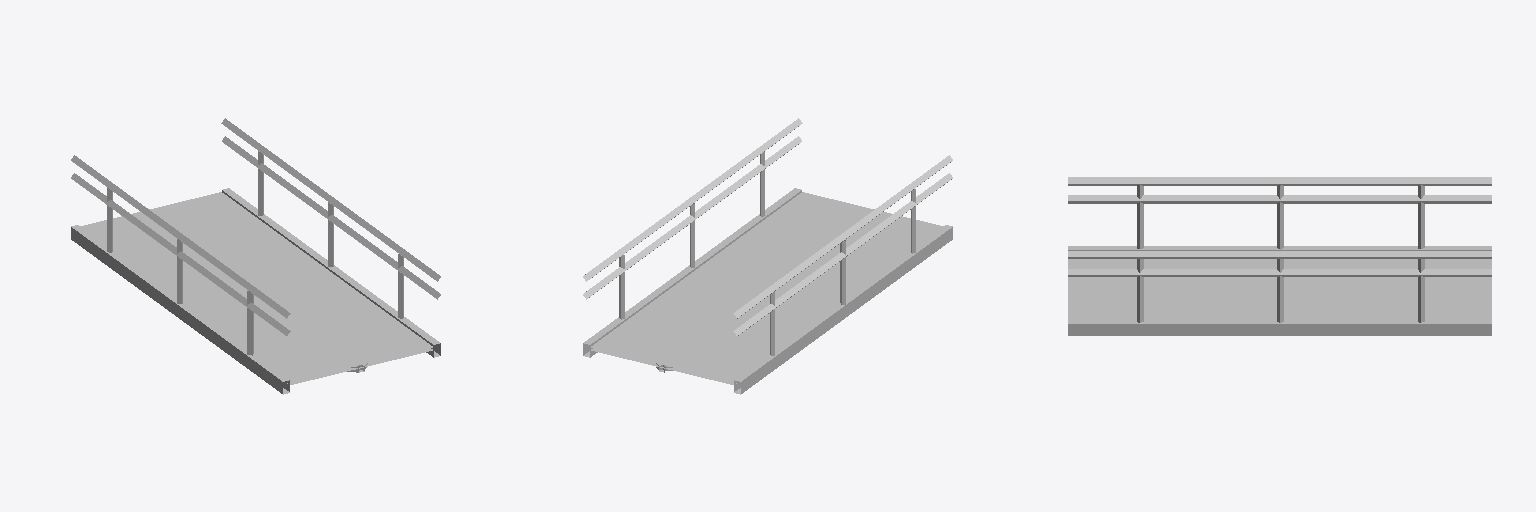
The model's file is Bridge_With_Railing.obj.
The picture shows the model from 3 angles: view 1: azimuth 30°, elevation 25°; view 2: azimuth 150°, elevation 25°; view 3: azimuth 270°, elevation 25°; orthographic projection.
Visible parts, largest first — view 1: Bridges_2; view 2: Bridges_2; view 3: Bridges_2.
Boxes of the visible parts, x1=… form: Bridges_2: x1=71, y1=118, x2=440, y2=394; Bridges_2: x1=583, y1=118, x2=952, y2=394; Bridges_2: x1=1068, y1=177, x2=1491, y2=335.
Size of the model in its own units: 2.1 by 1.05 by 4.85.